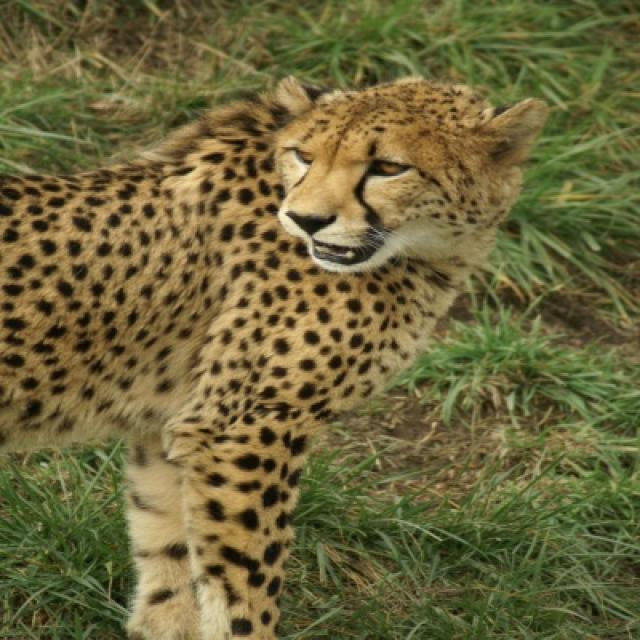Cheetah: (0, 77, 547, 638)
